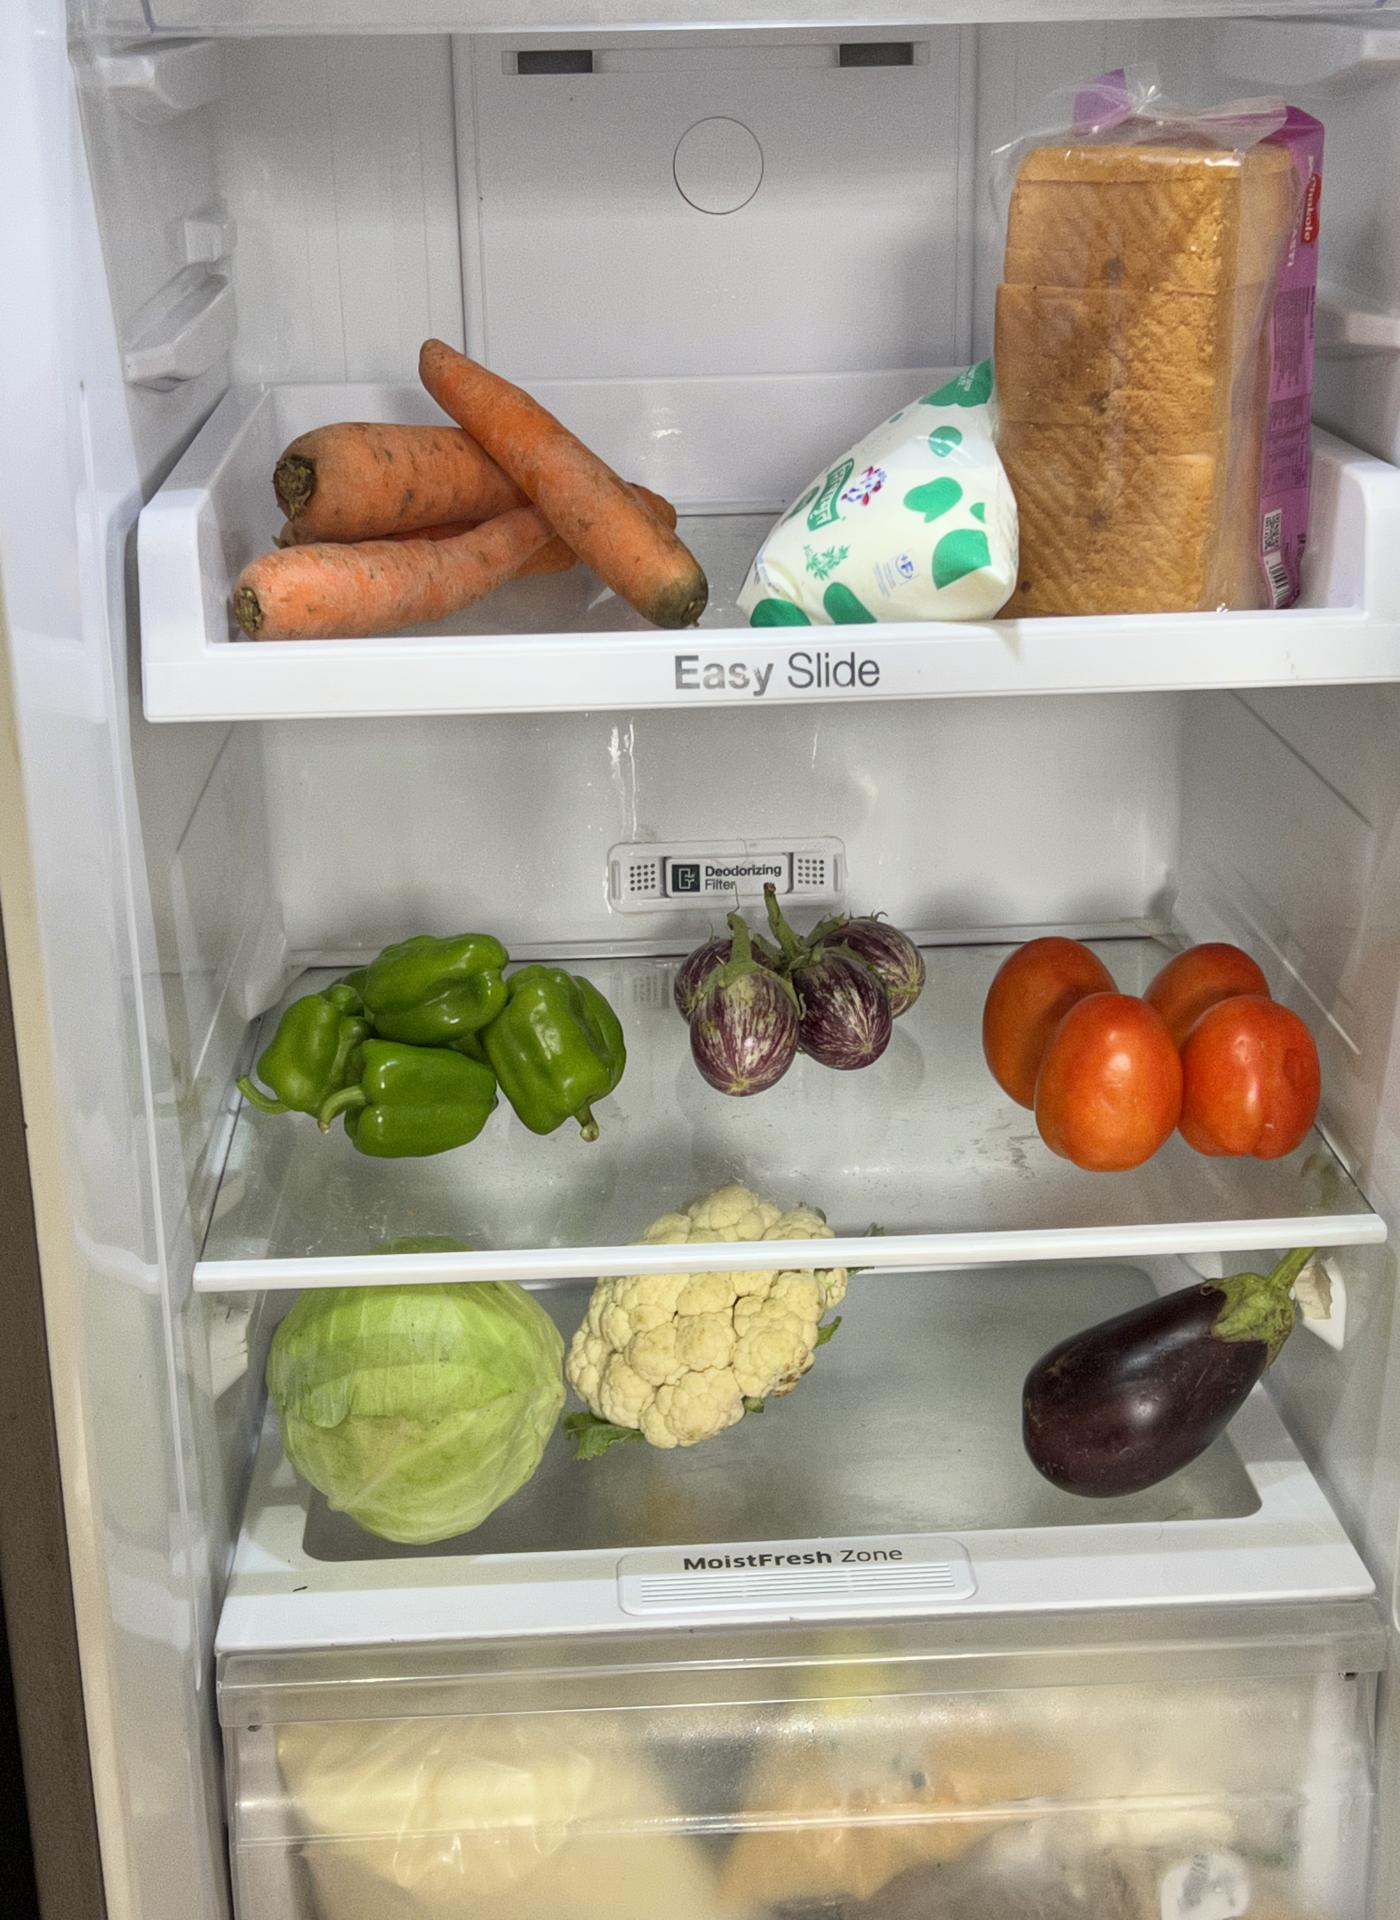bread: (1006, 119, 1328, 604)
cabbage: (237, 1267, 558, 1534)
capsicum: (250, 915, 632, 1157)
carrots: (213, 329, 713, 642)
cauliflower: (576, 1254, 869, 1431)
milk: (747, 382, 1009, 619)
tomato: (978, 915, 1331, 1176)
